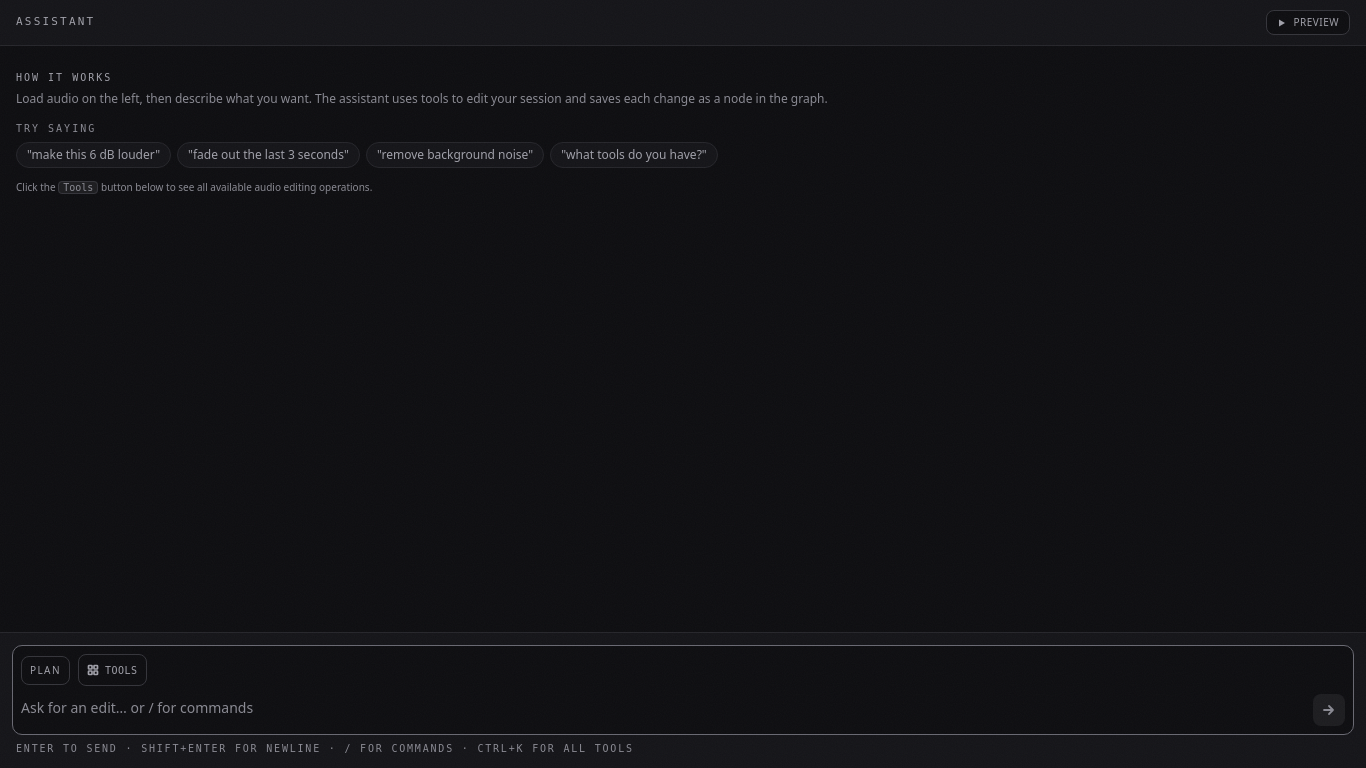
Test: Chat › sends a typed message via the bridge and shows it in the log
Type "normalize to -1 dBFS" into the text box named "Message". click: (663, 712)
box: [21,698,1305,726]
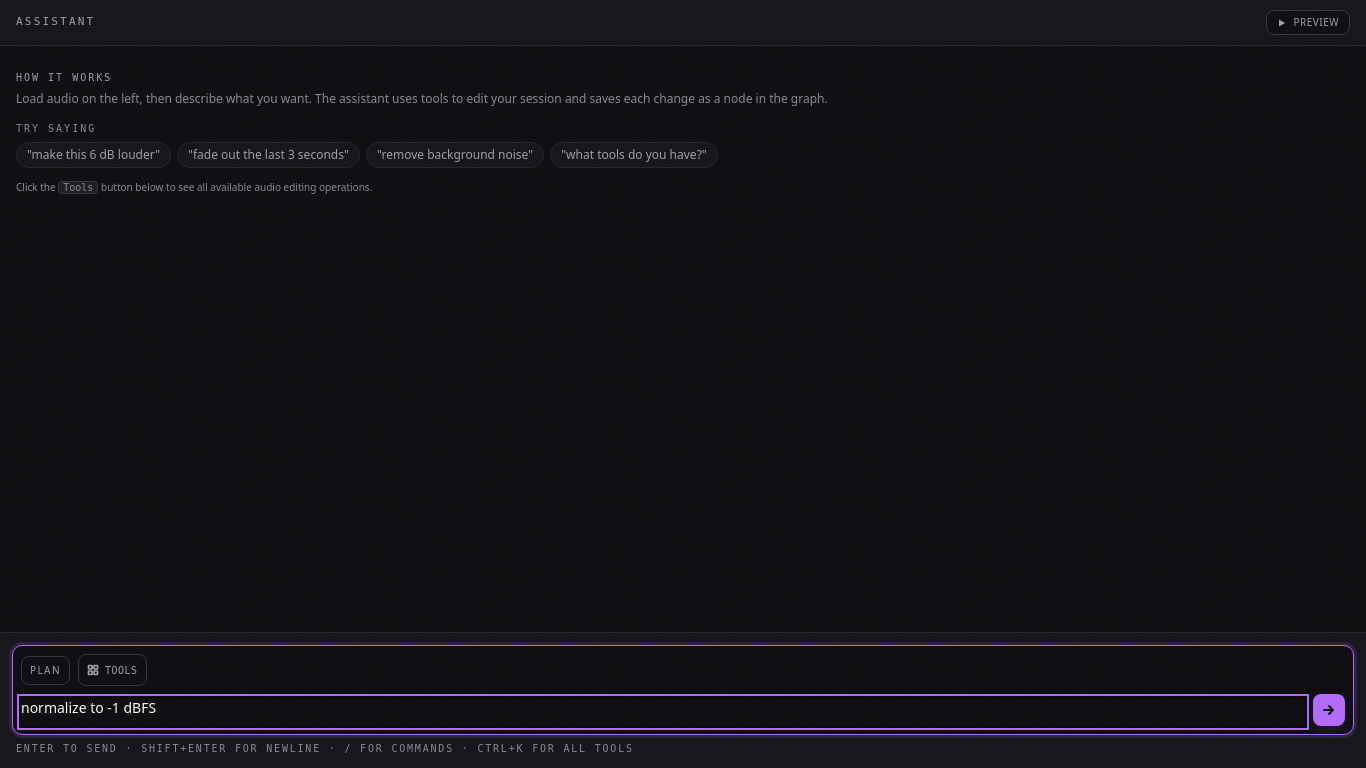
Click the button named "send". click: (1329, 710)
box: [1313,694,1345,726]
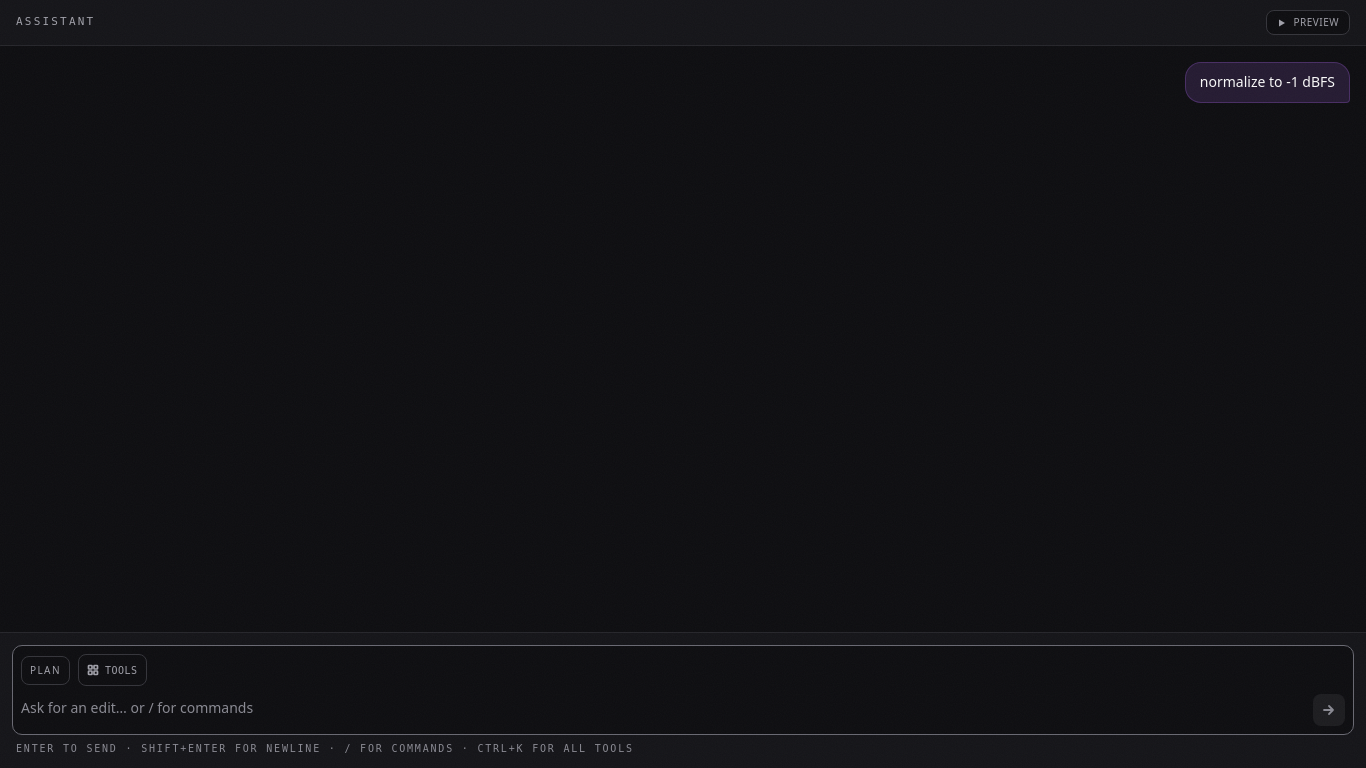
Now the element with test id "message-bubble" reads "normalize to -1 dBFS", box [1200,72,1335,91]
